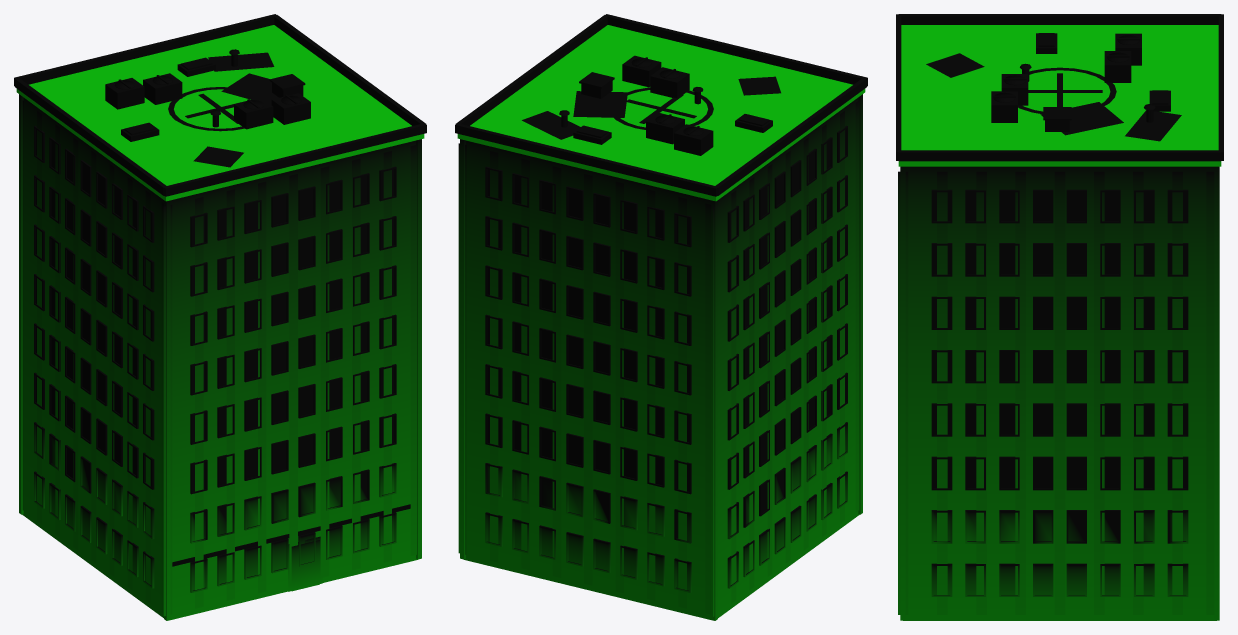
Rendered from city8storyb.glb.
3 renders of one model, left to right at view 1: azimuth 30°, elevation 25°; view 2: azimuth 150°, elevation 25°; view 3: azimuth 270°, elevation 25°, orthographic. The views are drawn at different scales.
Visible parts, largest first — view 1: lod0; view 2: lod0; view 3: lod0.
Boxes of the visible parts, x1,y1,x2,y2 form: lod0: [14, 14, 426, 620]; lod0: [455, 14, 867, 620]; lod0: [896, 14, 1223, 620].
Size of what is drawn, in the model's own units: 18.5 by 30.04 by 18.5.
